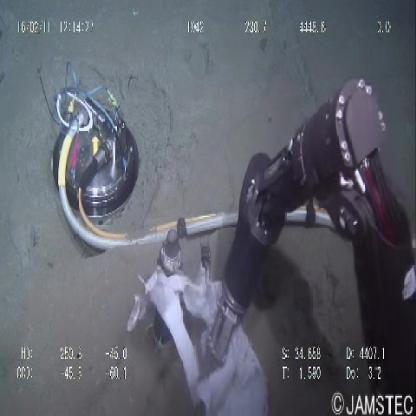Rov: (198, 69, 416, 393), (35, 63, 153, 256)
Rác: (125, 265, 269, 416)
